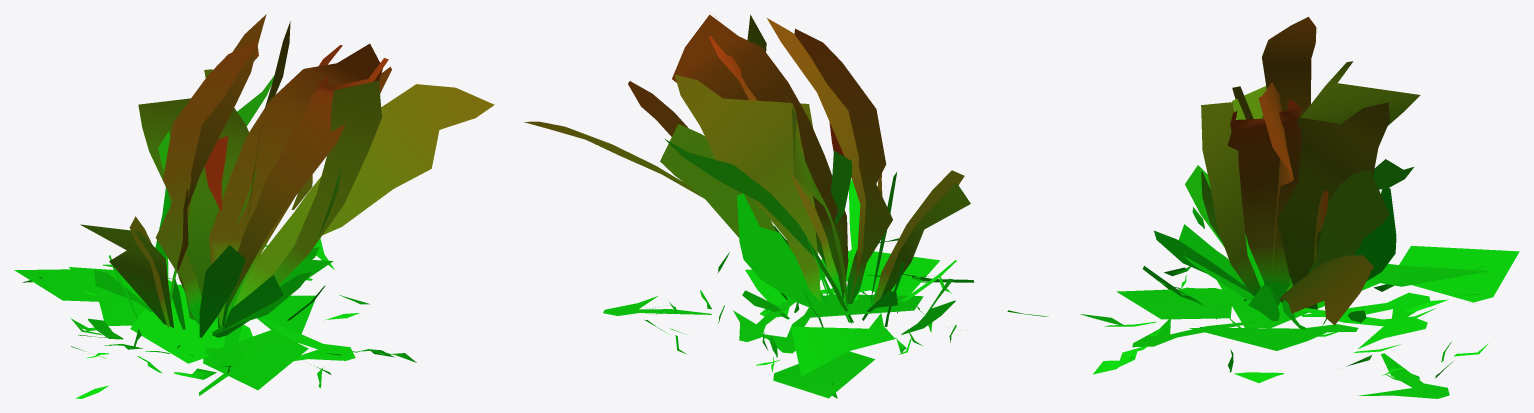
The model's file is Dead Shrubs_LOD1_Var7_vdknafgha.fbx.
3 views of the same model, side by side, from view 1: azimuth 30°, elevation 25°; view 2: azimuth 150°, elevation 25°; view 3: azimuth 270°, elevation 25° (orthographic). The views are drawn at different scales.
Visible parts, largest first — view 1: _sh7g_Var7_LOD1; view 2: _sh7g_Var7_LOD1; view 3: _sh7g_Var7_LOD1.
Boxes of the visible parts, left/top/right/bottom form: _sh7g_Var7_LOD1: left=14, top=14, right=494, bottom=398; _sh7g_Var7_LOD1: left=524, top=14, right=1048, bottom=398; _sh7g_Var7_LOD1: left=1080, top=17, right=1519, bottom=398.
Size of the model in its own units: 92.03 by 54.11 by 64.8.
